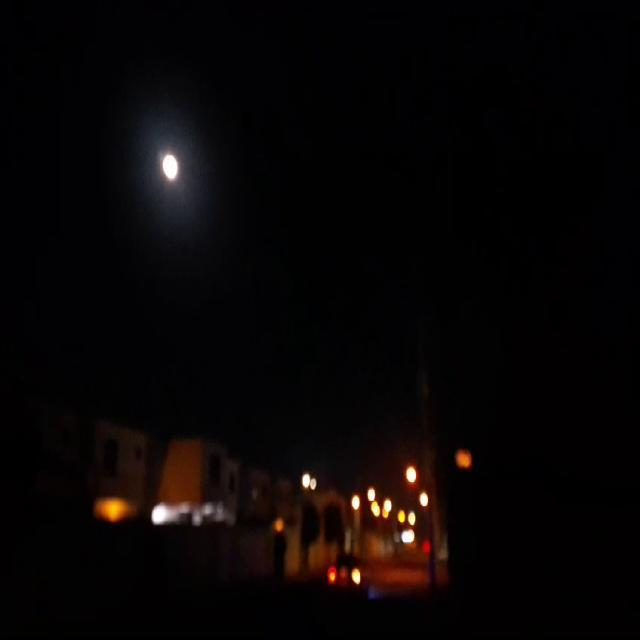moon: (162, 150, 182, 184)
